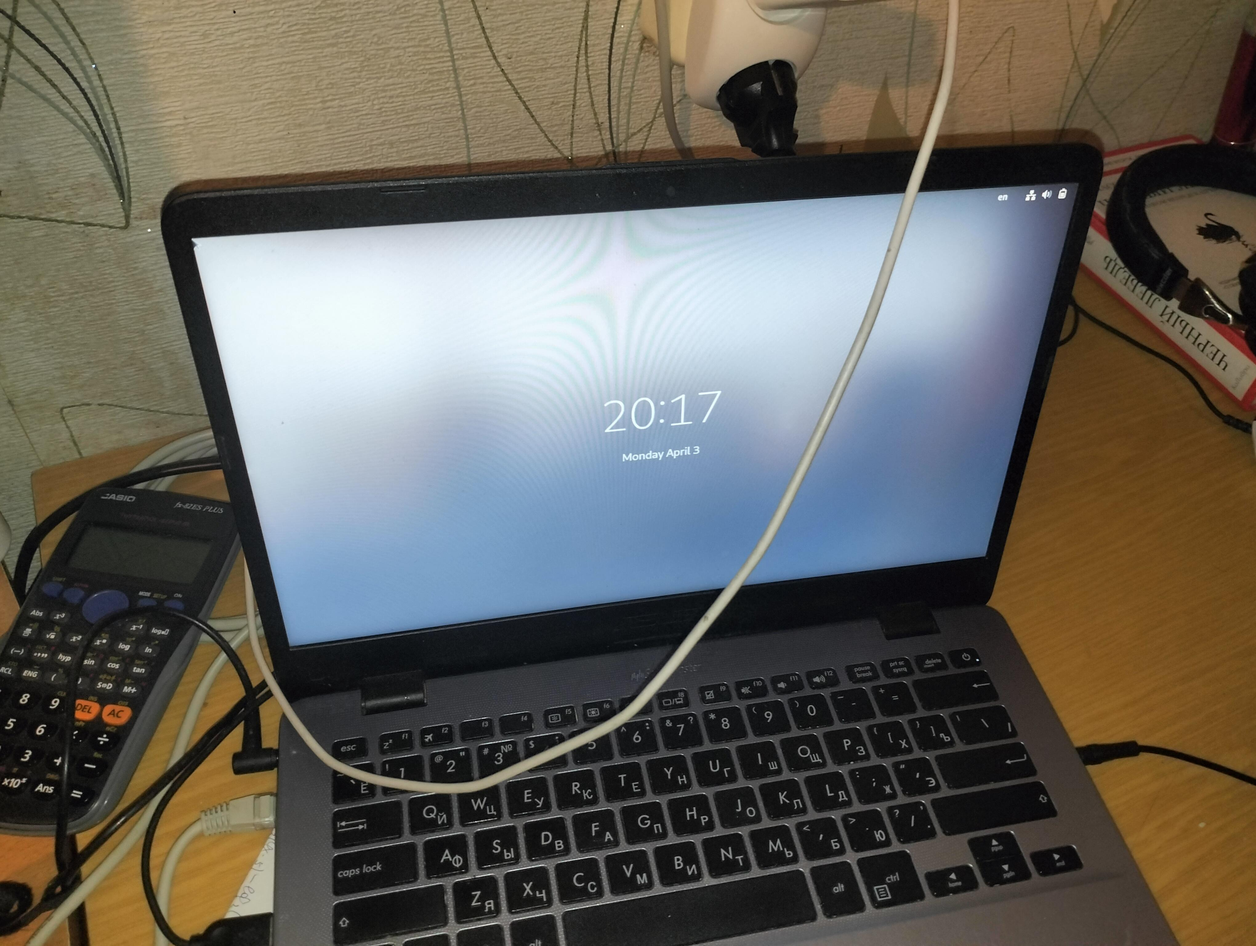monitor: (162, 141, 1104, 688)
